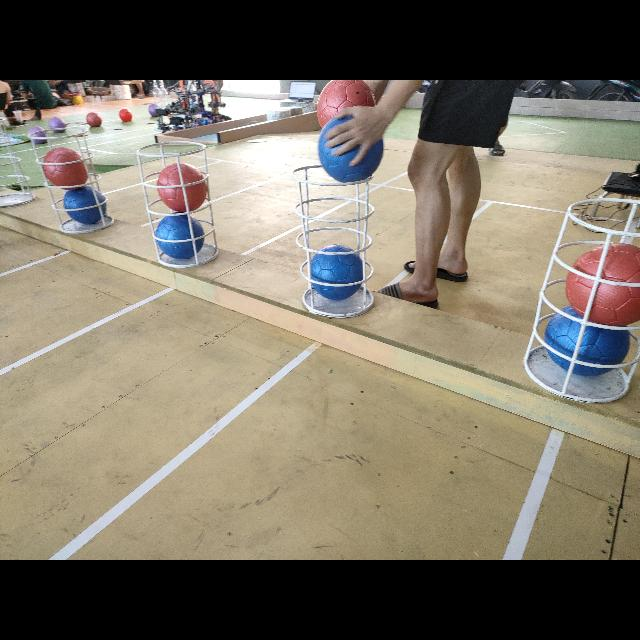B: (545, 312, 629, 378), (310, 246, 364, 298), (155, 212, 203, 260), (64, 190, 106, 224)
R: (564, 241, 640, 325), (157, 164, 207, 212), (42, 146, 88, 188)
